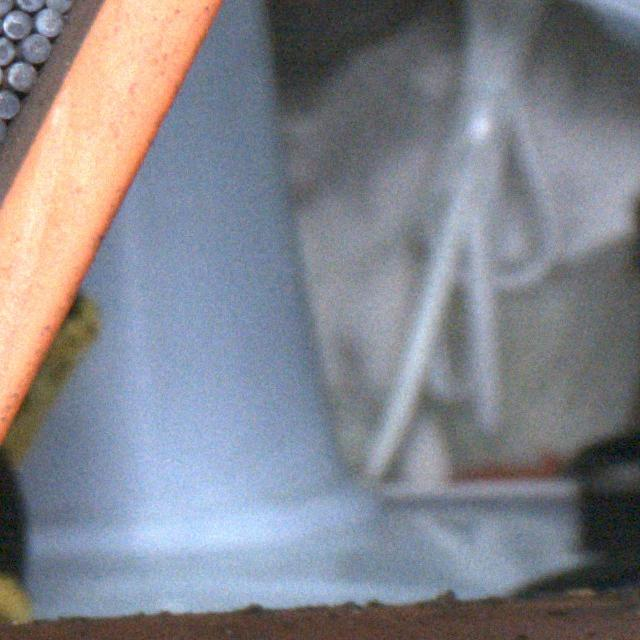tool: (20, 33, 50, 62), (7, 62, 36, 90), (2, 10, 30, 38), (36, 8, 62, 36), (0, 90, 19, 118), (0, 37, 13, 64), (16, 0, 44, 11), (44, 0, 71, 11)
